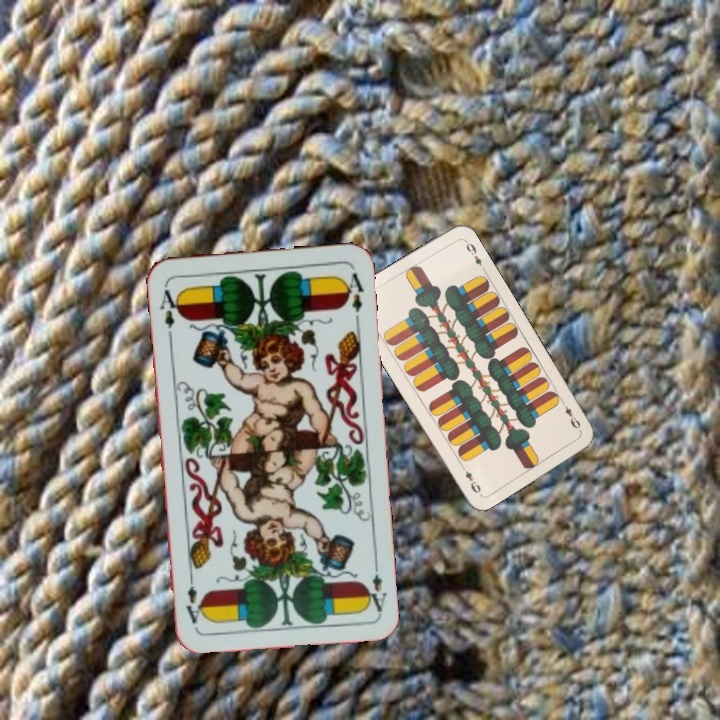E9: (558, 398, 584, 434)
EA: (155, 280, 183, 340), (361, 556, 389, 615)
